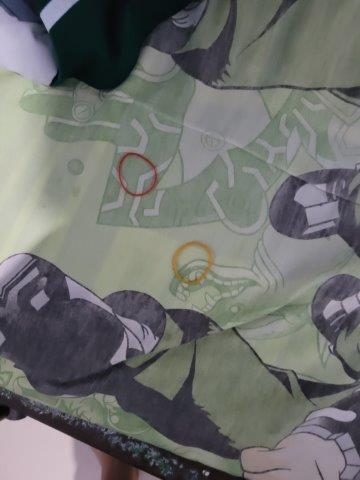karet: (172, 241, 214, 287), (117, 153, 159, 197)
